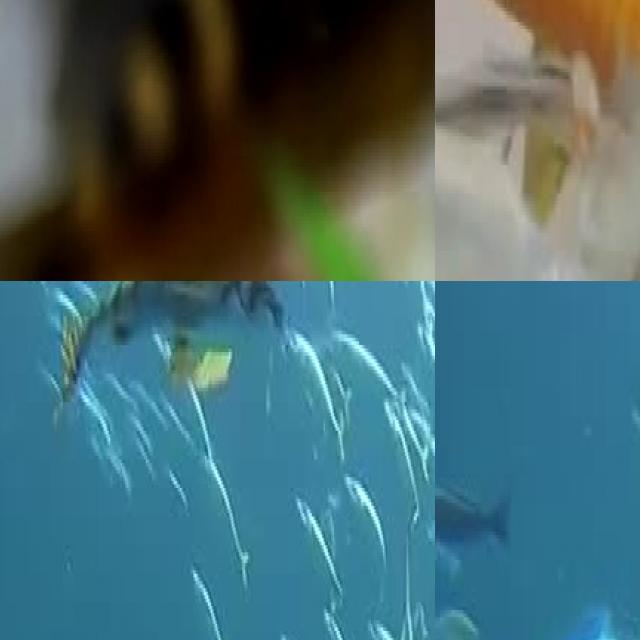fish: (0, 0, 435, 281), (435, 0, 640, 281)
